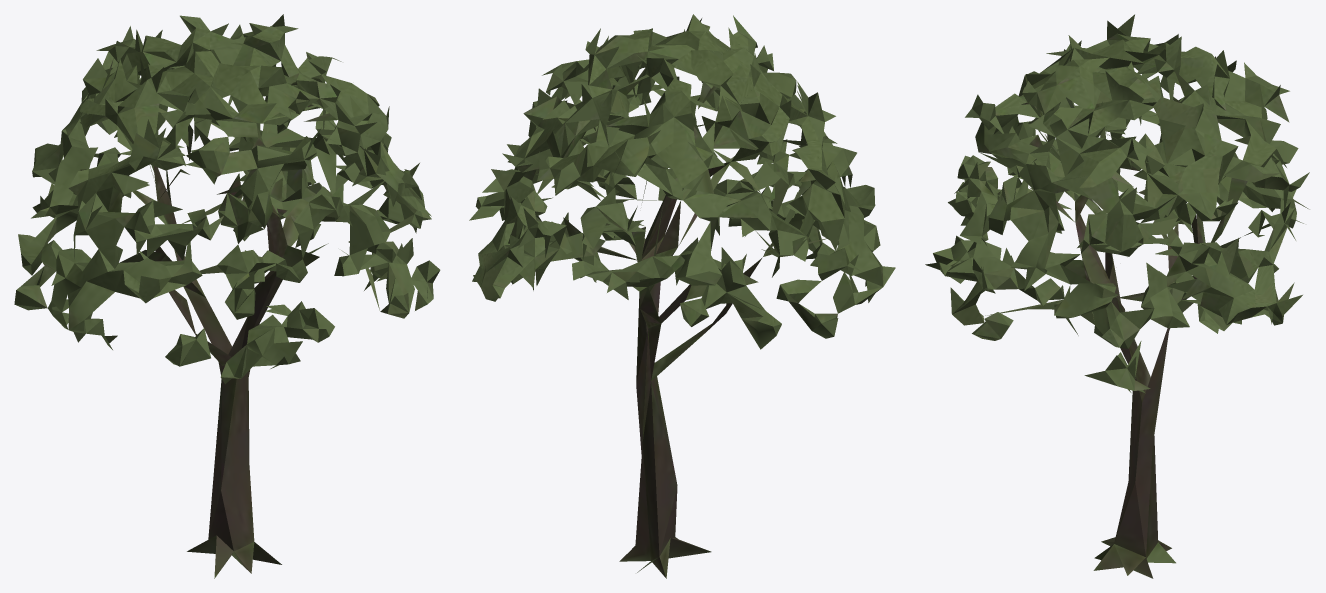
Rendered from tree.glb.
3 views of the same model, side by side, from view 1: azimuth 30°, elevation 25°; view 2: azimuth 150°, elevation 25°; view 3: azimuth 270°, elevation 25° (orthographic). The views are drawn at different scales.
Visible parts, largest first — view 1: Mesh_0; view 2: Mesh_0; view 3: Mesh_0.
Boxes of the visible parts, left/top/right/bottom form: Mesh_0: left=14, top=14, right=440, bottom=578; Mesh_0: left=469, top=14, right=895, bottom=578; Mesh_0: left=925, top=14, right=1309, bottom=578.
Size of the model in its own units: 1.4 by 1.9 by 1.29.
Materials: 1 (1 with a texture image).
